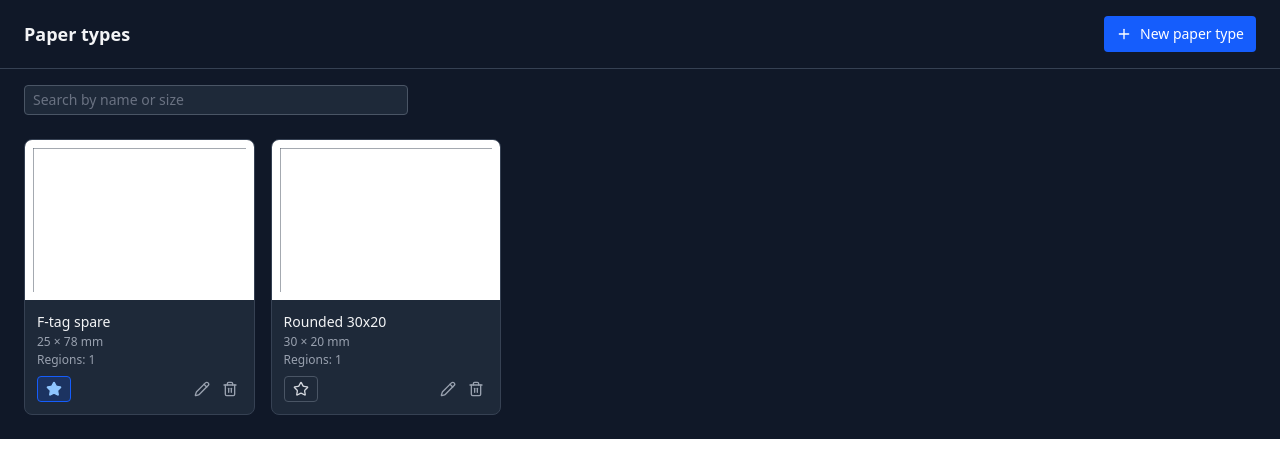
Test case: PaperTypeSection › confirms, then removes a paper type; deleting the default clears the preference
expect the text "F-tag spare" is shown: met, box [37, 312, 110, 332]
expect the button named "Default for new labels" is disabled: met, box [37, 376, 71, 402]
Step 1. Click the button named "Delete" below "25 × 78 mm" → x=230, y=389, box [218, 377, 242, 401]
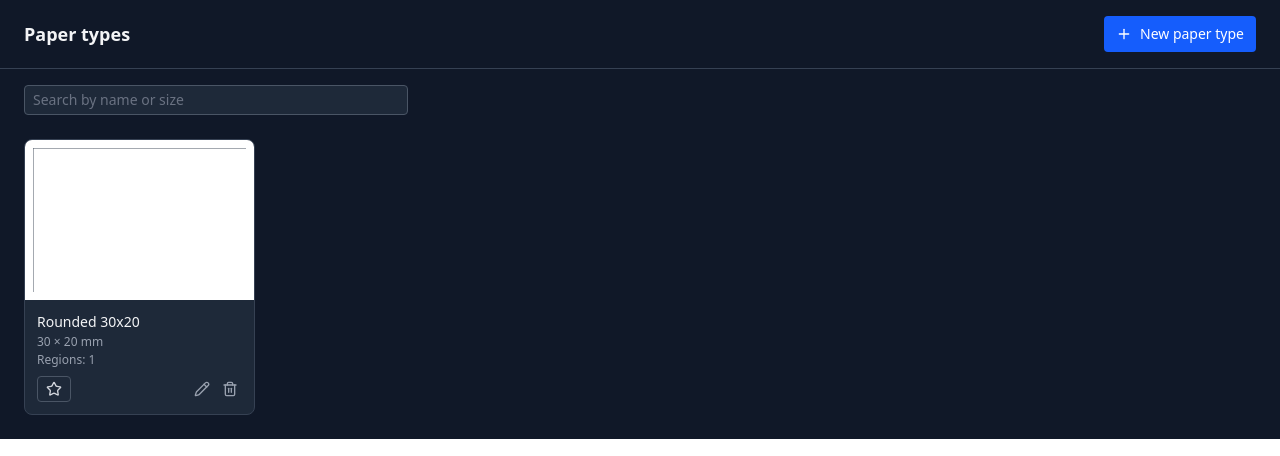
expect the text "F-tag spare" is gone: met
